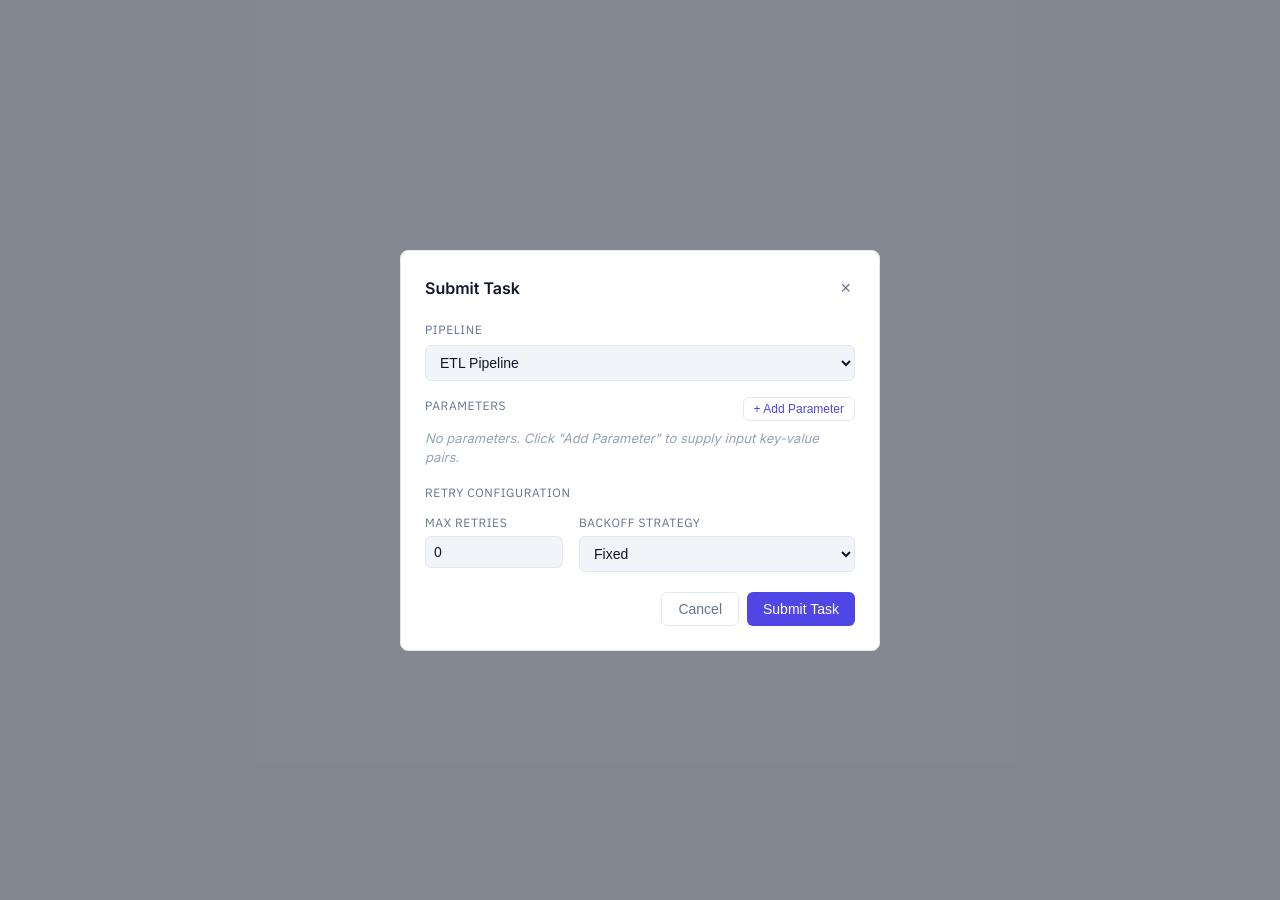
it: SubmitTaskModal — inline validation › shows an error and blocks submission when a parameter key is empty
This screenshot has width=1280, height=900.
// Add a parameter row but leave the key empty
Click the button "+ Add Parameter" at (799, 408), box [743,396,855,420]
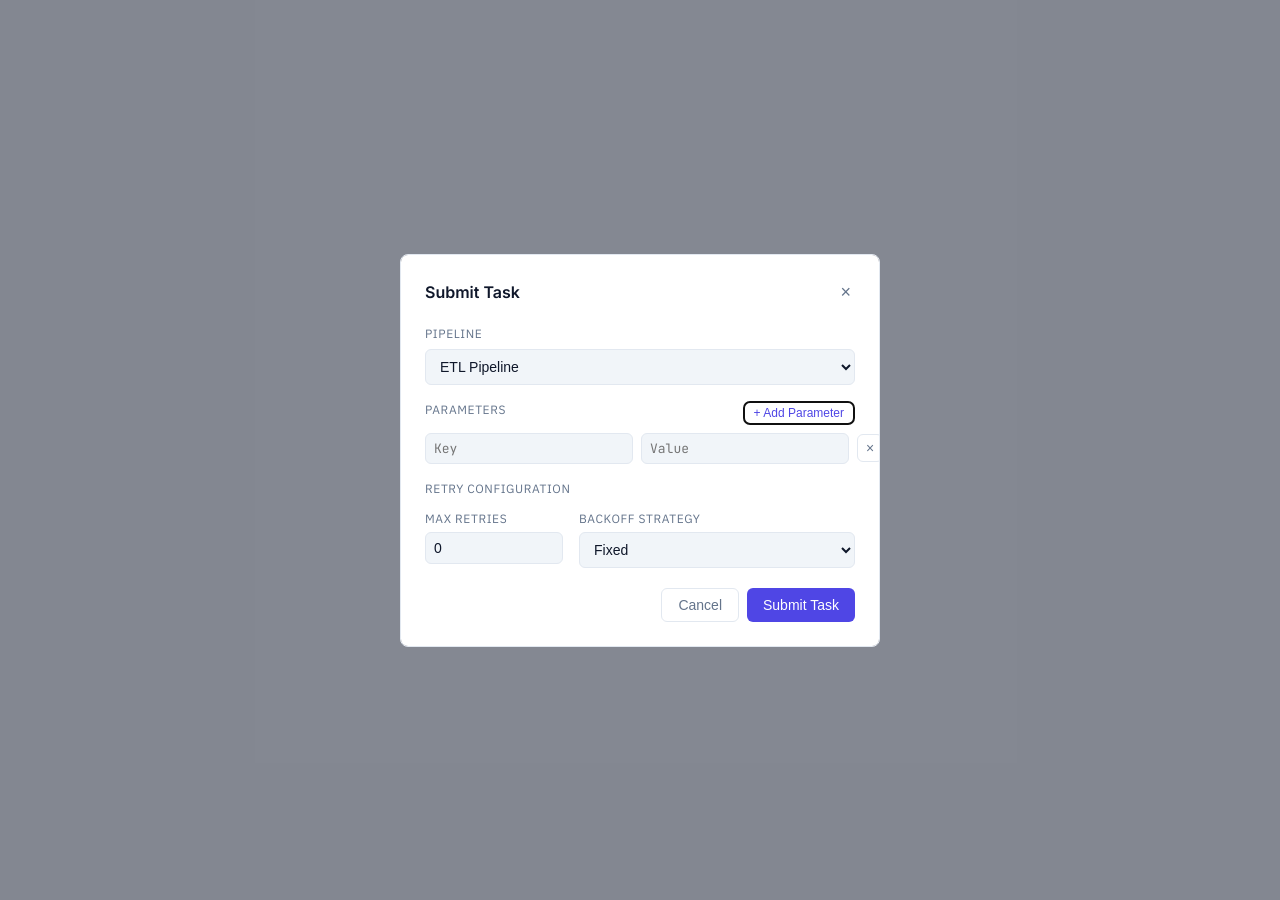
Type "somevalue" into the field with placeholder "Value" at (745, 448), box [641,432,849,464]
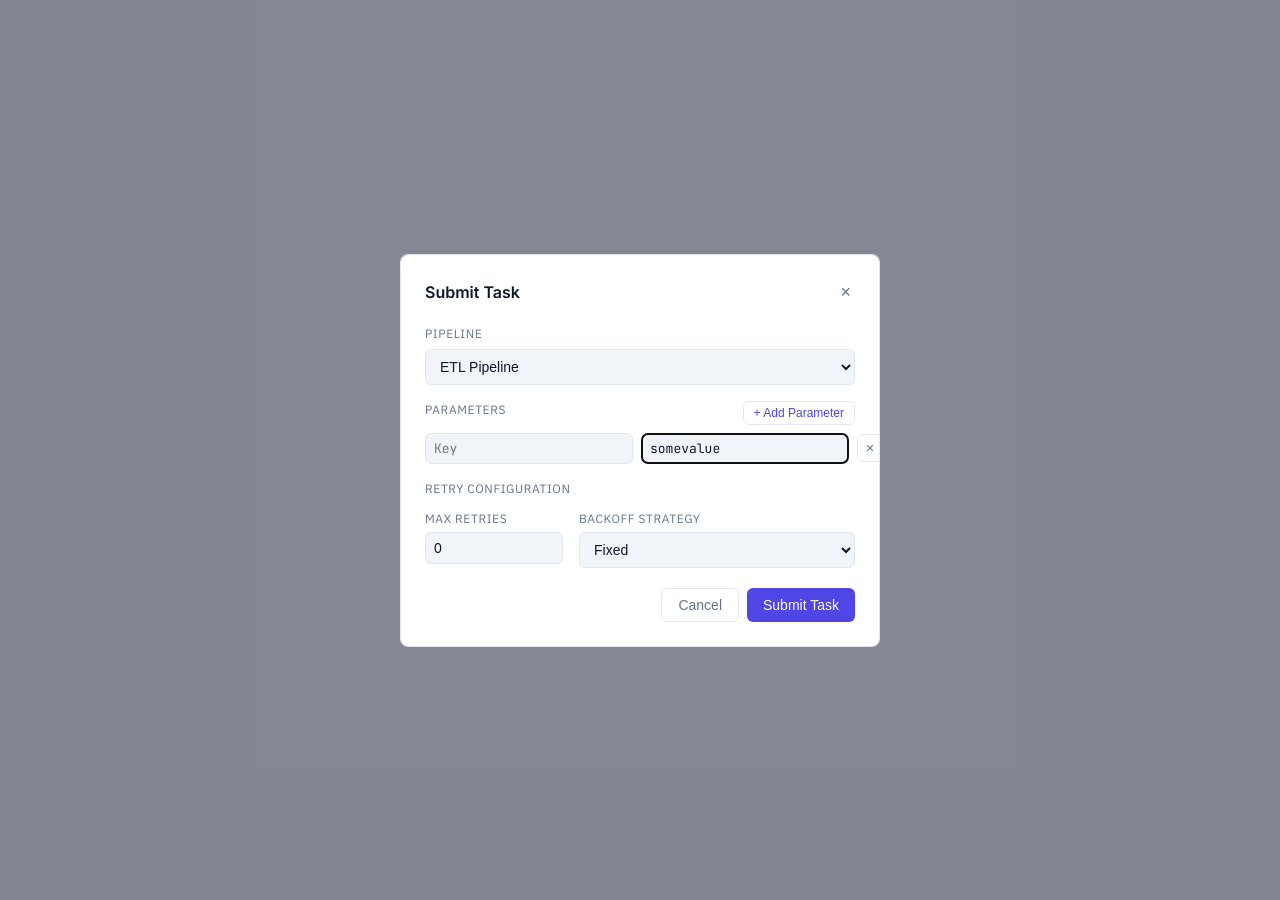
Click the button "Submit Task" at (801, 604), box [747,588,855,622]
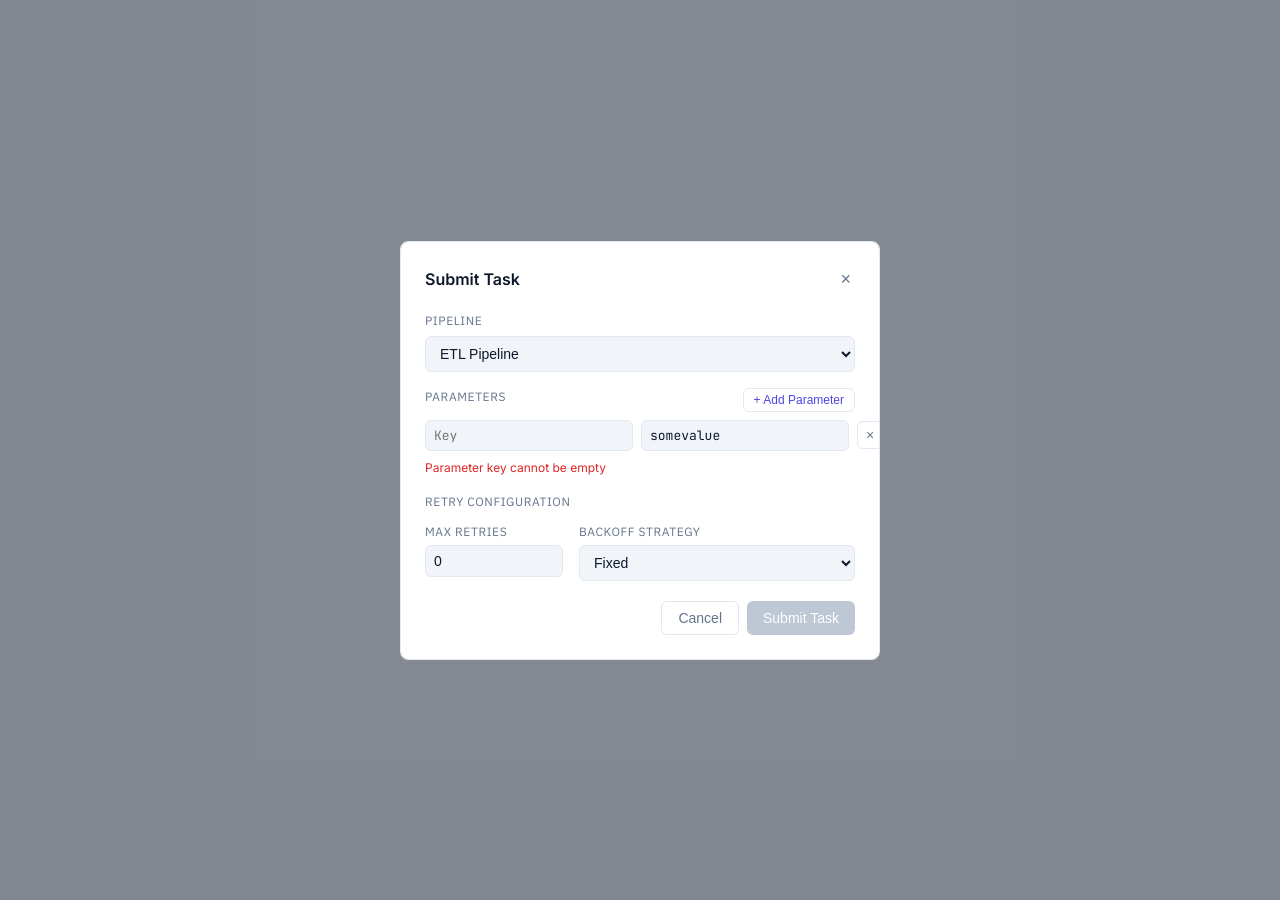
Result: the text "Parameter key cannot be empty" is shown at [425,460,606,474]
